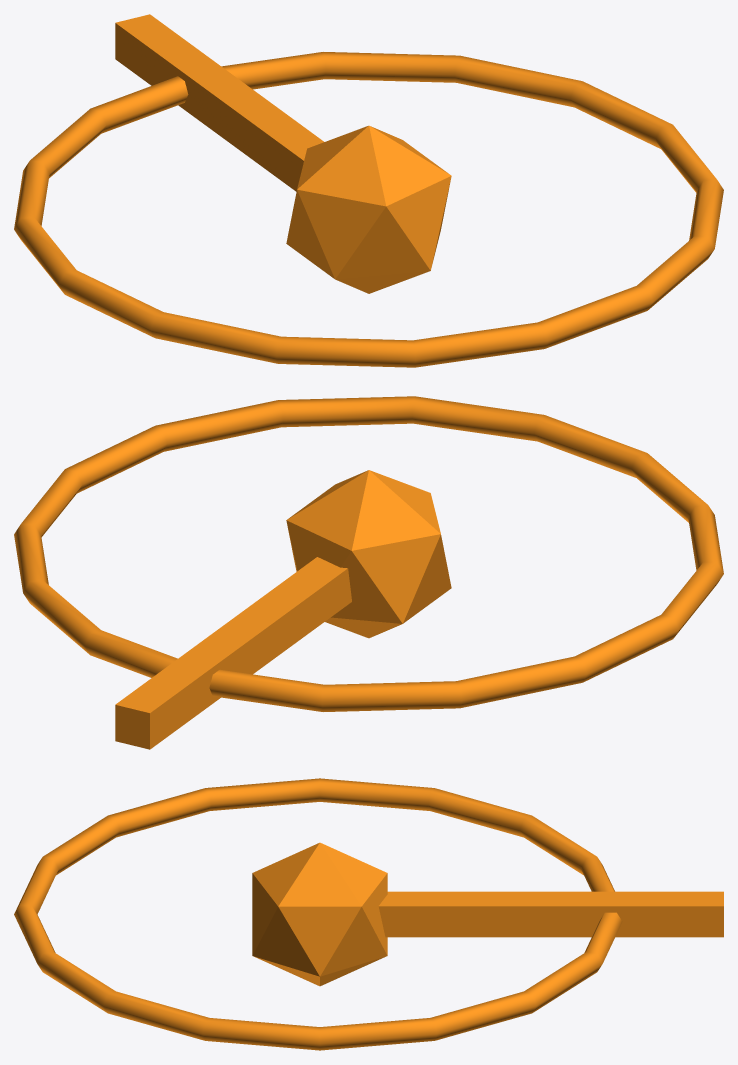
File: SteeringGyro.obj
3 views of the same model, one above another, from view 1: azimuth 30°, elevation 25°; view 2: azimuth 150°, elevation 25°; view 3: azimuth 270°, elevation 25° (orthographic). The views are drawn at different scales.
Visible parts, largest first — view 1: Gyro1, Part1; view 2: Gyro1, Part1; view 3: Gyro1, Part1.
Part boxes in pixels (x1=…): Gyro1: x1=14, y1=52, x2=723, y2=367; Part1: x1=115, y1=14, x2=323, y2=191; Gyro1: x1=14, y1=396, x2=723, y2=711; Part1: x1=115, y1=557, x2=351, y2=749; Gyro1: x1=14, y1=778, x2=622, y2=1050; Part1: x1=378, y1=891, x2=723, y2=937.
Size of the model in its own units: 0.89 by 0.2311 by 1.03.
